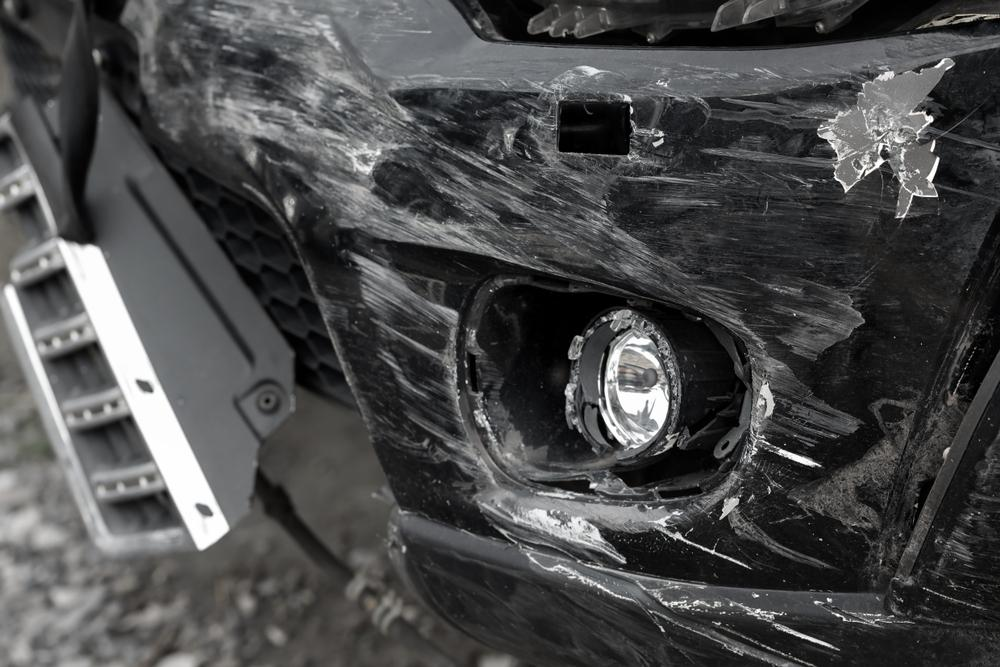scratch: (124, 0, 953, 578), (484, 553, 912, 667), (928, 424, 1000, 622)
